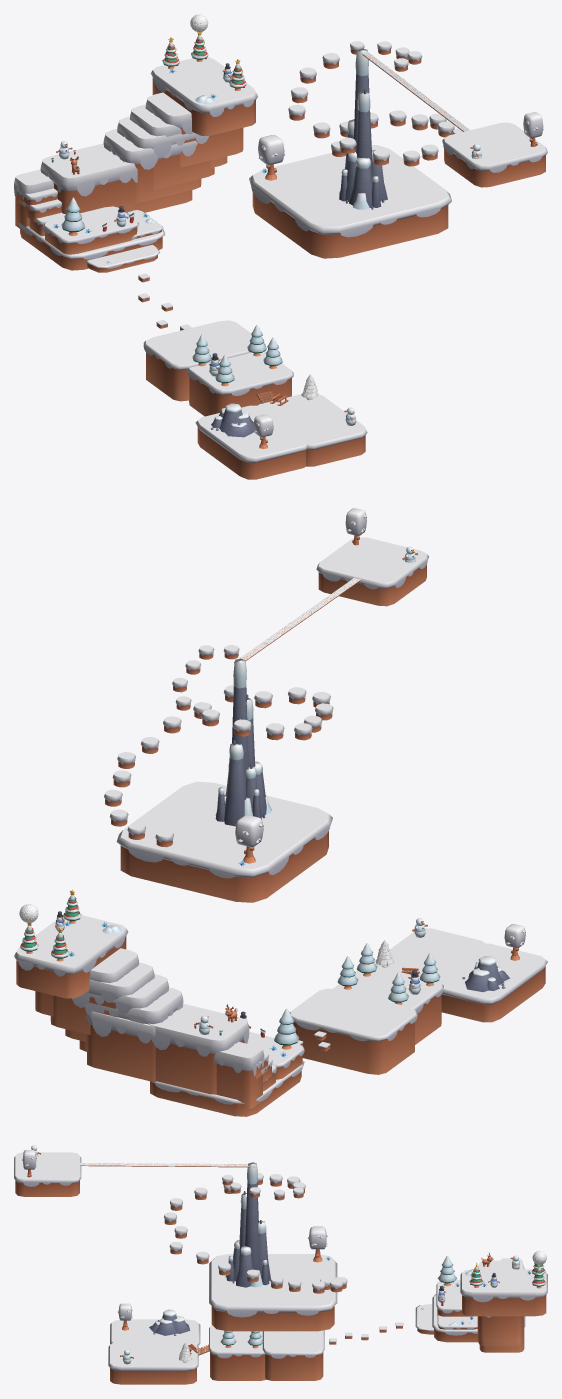
File: map2.glb
The picture shows the model from 3 angles, top to bottom: view 1: azimuth 30°, elevation 25°; view 2: azimuth 150°, elevation 25°; view 3: azimuth 270°, elevation 25°; orthographic projection. The views are drawn at different scales.
Visible parts, largest first — view 1: block-snow-overhang-large.014, block-snow-overhang-large.013, block-snow-overhang-large.021, block-snow-large.001, block-snow-overhang-large.010, block-snow-overhang-large-tall.002, block-snow-large, block-snow-overhang-large-tall, rocks-large, block-snow-overhang-large.015, block-snow-overhang-large.007, block-snow-overhang-large.012 (+9 smaller); view 2: block-snow-overhang-large.014, block-snow-overhang-large-tall.002, block-snow-overhang-large.010, block-snow-overhang-large.013, block-snow-overhang-large.021, block-snow-large.001, rocks-large, block-snow-overhang-large.011, block-snow-overhang-large-tall, block-snow-overhang-large.009, block-snow-overhang-large.016, block-snow-large (+8 smaller); view 3: block-snow-overhang-large.014, block-snow-overhang-large.013, block-snow-large, block-snow-overhang-large-tall.002, rocks-large, block-snow-overhang-large.021, block-snow-overhang-large-tall, block-snow-large.001, block-snow-overhang-large.017, block-snow-overhang-large.005, block-snow-overhang-large.007, rocks-medium (+7 smaller).
Boxes of the visible parts, <box> form: block-snow-overhang-large.014: <box>249,145,451,258</box>; block-snow-overhang-large.013: <box>150,57,257,135</box>; block-snow-overhang-large.021: <box>442,122,547,187</box>; block-snow-large.001: <box>195,405,307,479</box>; block-snow-overhang-large.010: <box>40,143,136,214</box>; block-snow-overhang-large-tall.002: <box>143,320,265,401</box>; block-snow-large: <box>258,394,367,466</box>; block-snow-overhang-large-tall: <box>187,351,293,416</box>; rocks-large: <box>339,48,387,209</box>; block-snow-overhang-large.015: <box>117,116,214,189</box>; block-snow-overhang-large.007: <box>43,206,138,254</box>; block-snow-overhang-large.012: <box>103,129,201,203</box>; block-snow-overhang-large.014: <box>116,781,332,902</box>; block-snow-overhang-large-tall.002: <box>290,988,417,1074</box>; block-snow-overhang-large.010: <box>148,1003,249,1094</box>; block-snow-overhang-large.013: <box>14,915,128,998</box>; block-snow-overhang-large.021: <box>316,537,428,606</box>; block-snow-large.001: <box>437,943,547,1022</box>; rocks-large: <box>215,658,271,826</box>; block-snow-overhang-large.011: <box>85,1011,155,1081</box>; block-snow-overhang-large-tall: <box>333,966,443,1044</box>; block-snow-overhang-large.009: <box>214,1042,264,1109</box>; block-snow-overhang-large.016: <box>50,962,154,1034</box>; block-snow-large: <box>374,928,485,976</box>; block-snow-overhang-large.014: <box>209,1254,337,1331</box>; block-snow-overhang-large.013: <box>460,1269,547,1316</box>; block-snow-large: <box>108,1342,198,1384</box>; block-snow-overhang-large-tall.002: <box>262,1330,324,1380</box>; rocks-large: <box>225,1162,270,1287</box>; block-snow-overhang-large.021: <box>14,1152,81,1196</box>; block-snow-overhang-large-tall: <box>209,1325,266,1380</box>; block-snow-large.001: <box>110,1319,200,1345</box>; block-snow-overhang-large.017: <box>477,1316,522,1341</box>; block-snow-overhang-large.005: <box>432,1294,525,1342</box>; block-snow-overhang-large.007: <box>436,1280,473,1316</box>; rocks-medium: <box>149,1309,190,1335</box>.
Bounding box in the file's own units: 20.43 × 22.47 × 39.19.
Materials: 34 (33 with a texture image).
